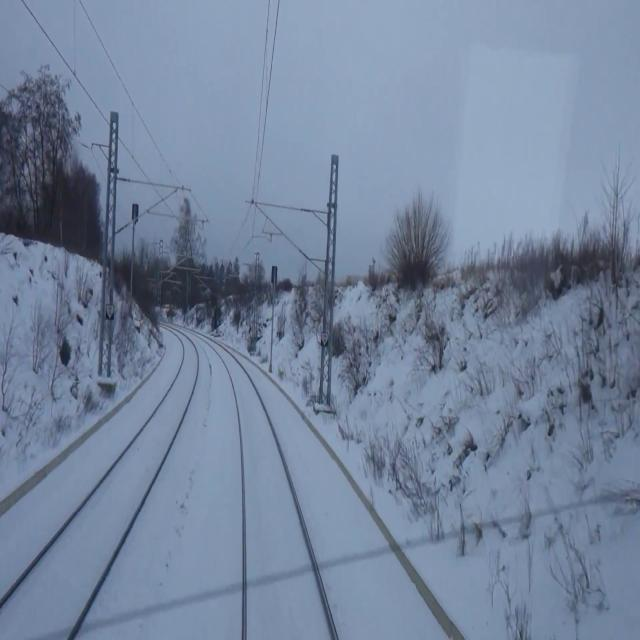rail-track: (0, 334, 196, 639), (212, 343, 333, 639)
